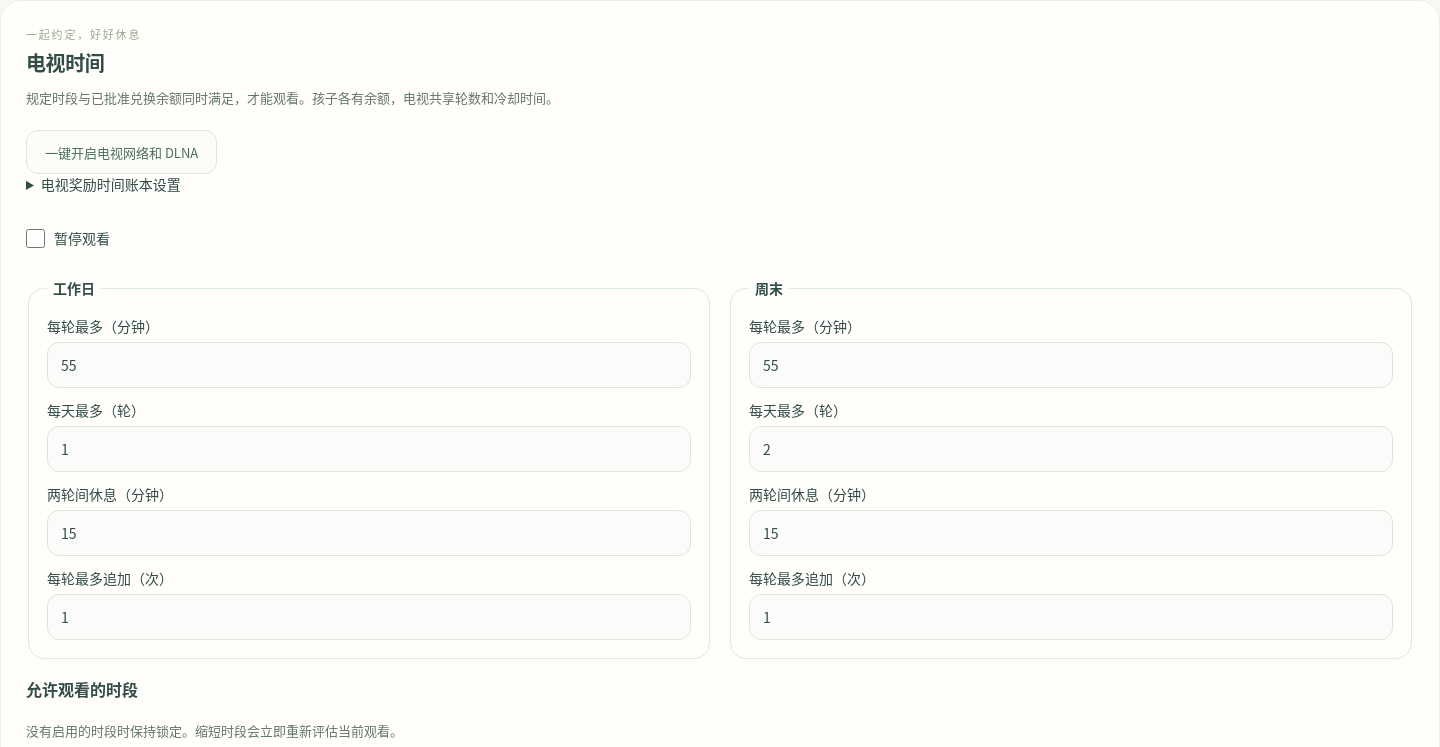
parent home access action › sends the parent capability once and shows partial confirmation
Click the button "一键开启电视网络和 DLNA": [122, 152] box [26, 130, 217, 174]
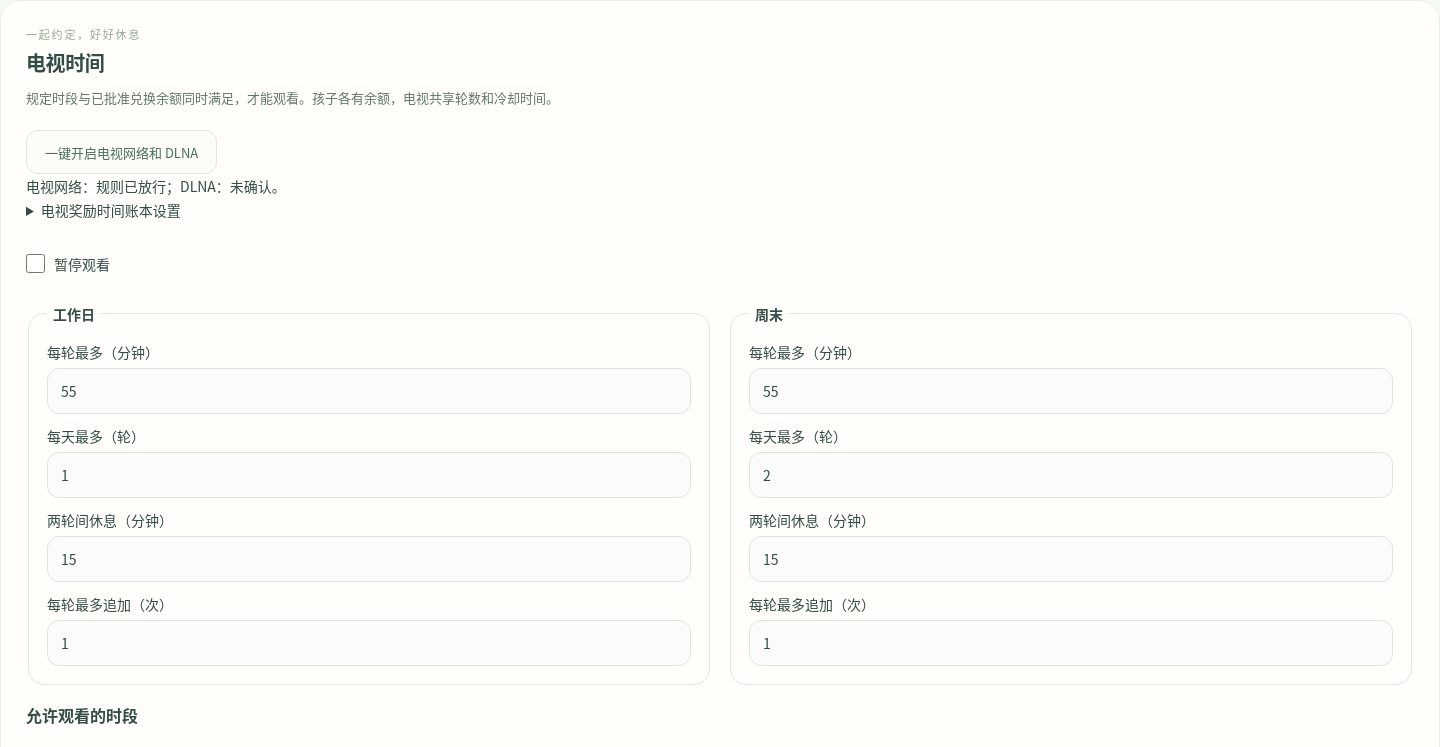
Result: the text "电视网络：规则已放行；DLNA：未确认" is shown at [26, 176, 286, 196]
